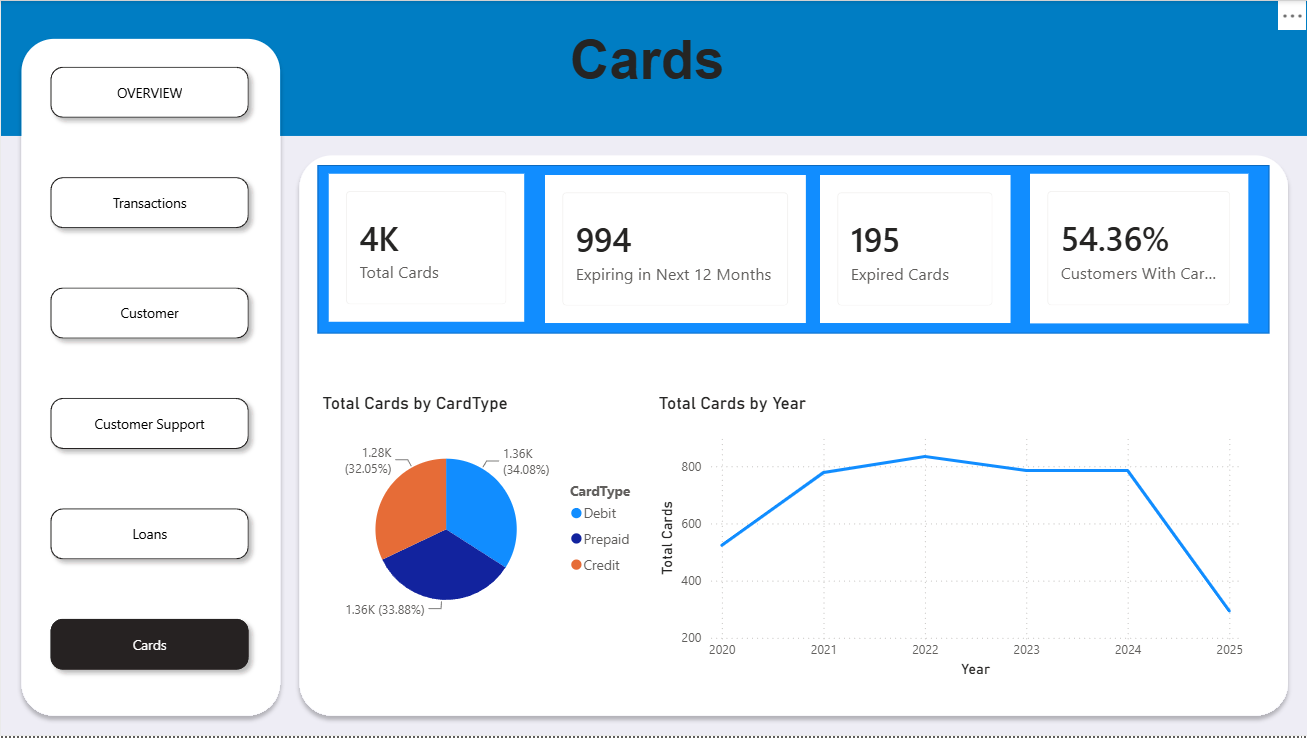

Layout of this report page (visuals, bound fields, positions):
{"tool":"powerbi","page":{"name":"Cards","canvas":[1280,720],"ordinal":5},"visuals":[{"type":"image","box":[0,0,1280.3,720.2],"z":0},{"type":"pageNavigator","box":[40.4,56.3,212.8,611.4],"z":1000},{"type":"textbox","box":[552.7,23.2,174.9,81.9],"z":2000},{"type":"shape","box":[310,161.2,931.2,165],"z":3000},{"type":"cardVisual","fields":{"Data":["Cards.Total Cards"]},"box":[321.2,170,191.2,145],"z":4000},{"type":"cardVisual","fields":{"Data":["Cards.Expiring in Next 12 Months"]},"box":[533.8,171.2,255,145],"z":5000},{"type":"cardVisual","fields":{"Data":["Cards.Expired Cards"]},"box":[802.5,171.2,186.2,145],"z":6000},{"type":"pieChart","fields":{"Category":["Cards.CardType"],"Y":["Cards.Total Cards"]},"box":[310,383.8,330,237.5],"z":7000},{"type":"lineChart","fields":{"Category":["Cards.IssuedDate.Variation.Date Hierarchy.Year"],"Y":["Cards.Total Cards"]},"box":[640,383.8,581.2,283.8],"z":8000},{"type":"cardVisual","fields":{"Data":["Cards.Card Penetration %"]},"box":[1007.5,170,213.8,146.2],"z":9000}]}

Visuals, with their boxes in screenshot pixels (x1, y1, x2, y2), scaled from the page's 1280x720 canvas onto the 1307x738 screenshot:
image: x1=0 y1=0 x2=1306 y2=737
pageNavigator: x1=41 y1=58 x2=259 y2=684
textbox: x1=564 y1=24 x2=743 y2=108
shape: x1=317 y1=165 x2=1267 y2=334
cardVisual - Cards.Total Cards: x1=328 y1=174 x2=523 y2=323
cardVisual - Cards.Expiring in Next 12 Months: x1=545 y1=175 x2=805 y2=324
cardVisual - Cards.Expired Cards: x1=819 y1=175 x2=1010 y2=324
pieChart - Cards.CardType x Cards.Total Cards: x1=317 y1=393 x2=654 y2=637
lineChart - Cards.IssuedDate.Variation.Date Hierarchy.Year x Cards.Total Cards: x1=654 y1=393 x2=1247 y2=684
cardVisual - Cards.Card Penetration %: x1=1029 y1=174 x2=1247 y2=324
